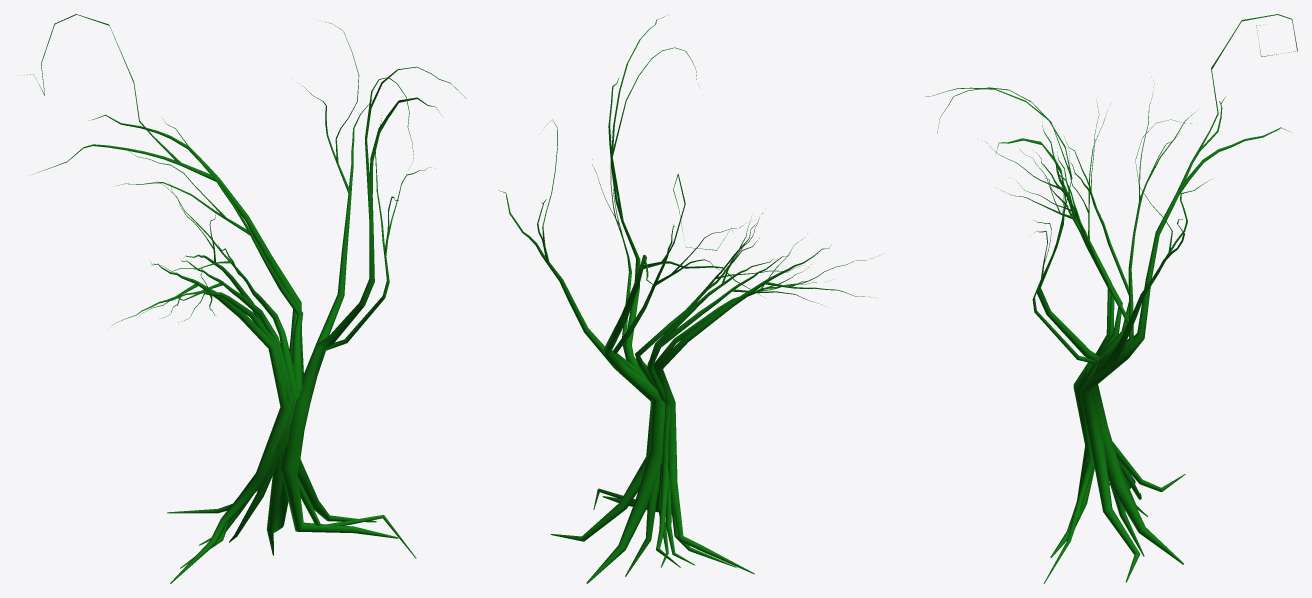
File: tree 04.fbx
3 renders of one model, left to right at view 1: azimuth 30°, elevation 25°; view 2: azimuth 150°, elevation 25°; view 3: azimuth 270°, elevation 25°, orthographic. The views are drawn at different scales.
Parts seen in each view (by area): view 1: Tree; view 2: Tree; view 3: Tree.
Boxes of the visible parts, x1,y1,x2,y2 form: Tree: (24, 14, 466, 583); Tree: (498, 14, 883, 583); Tree: (925, 14, 1297, 583).
Bounding box in the file's own units: 282 × 409 × 284.
